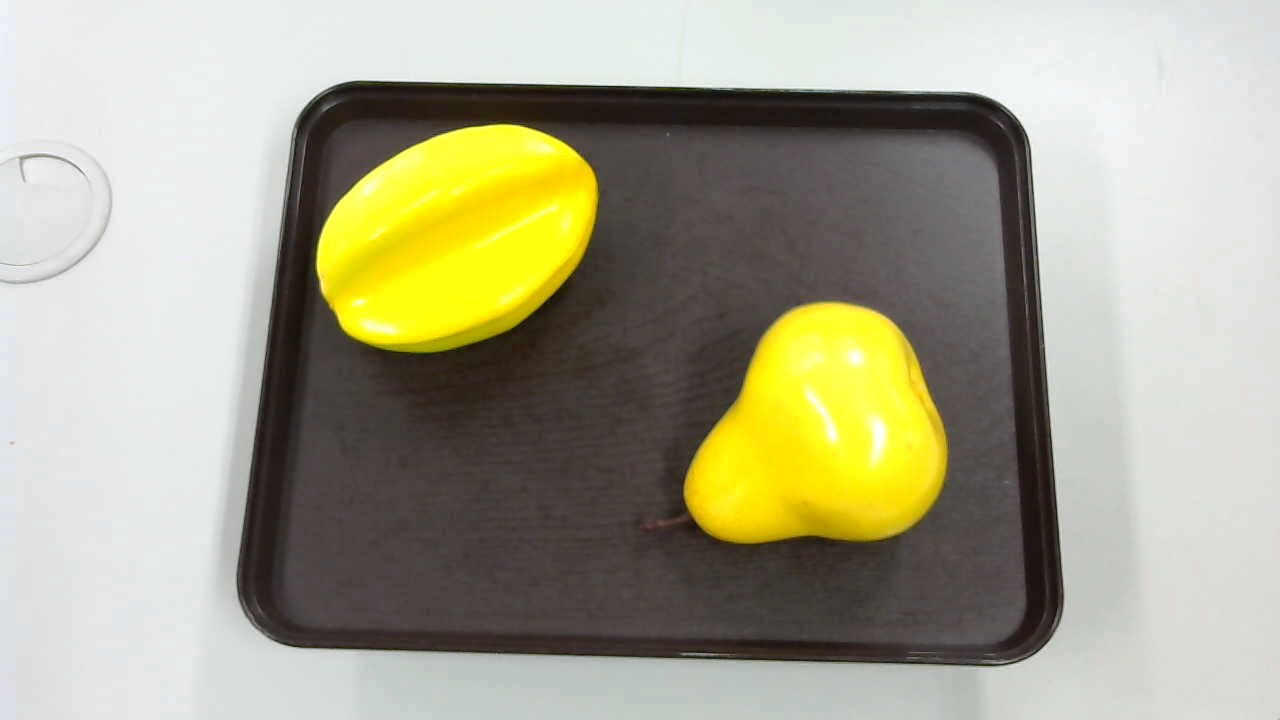star fruit: (307, 116, 596, 355)
yellow pear: (638, 305, 952, 558)
